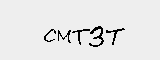З: (90, 24, 108, 49)
М: (56, 28, 73, 44)
С: (44, 26, 59, 44)
Т: (107, 27, 125, 44), (75, 25, 88, 45)
